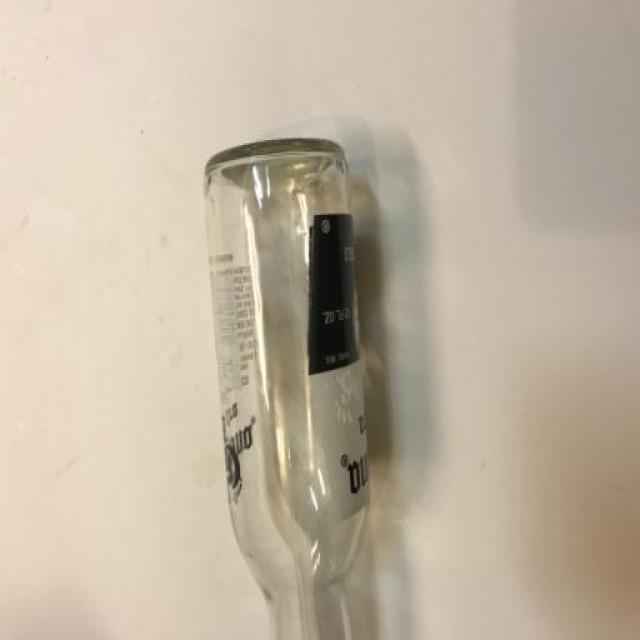glass: (189, 107, 451, 640)
